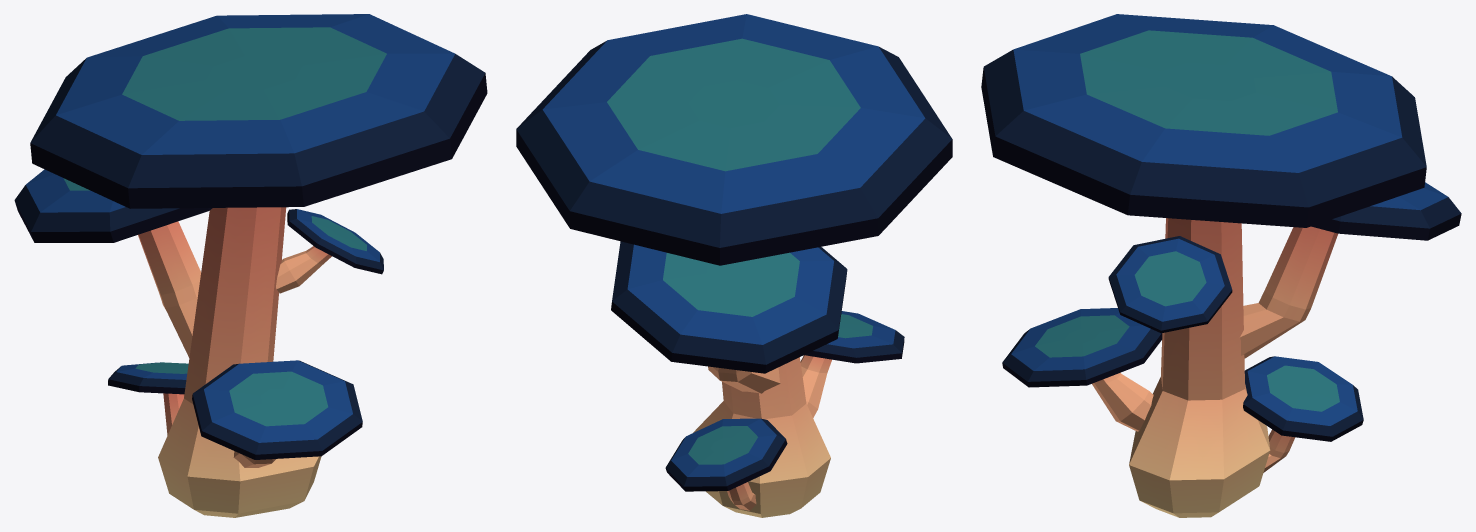
The model's file is Garden_GiantShroom02.fbx.
3 renders of one model, left to right at view 1: azimuth 30°, elevation 25°; view 2: azimuth 150°, elevation 25°; view 3: azimuth 270°, elevation 25°, orthographic. The views are drawn at different scales.
Parts seen in each view (by area): view 1: Cylinder.297; view 2: Cylinder.297; view 3: Cylinder.297.
Part boxes in pixels (left/top/right/bottom): Cylinder.297: left=14, top=14, right=487, bottom=517; Cylinder.297: left=516, top=14, right=952, bottom=517; Cylinder.297: left=981, top=14, right=1461, bottom=517.
Size of the model in its own units: 751 by 810 by 810.
